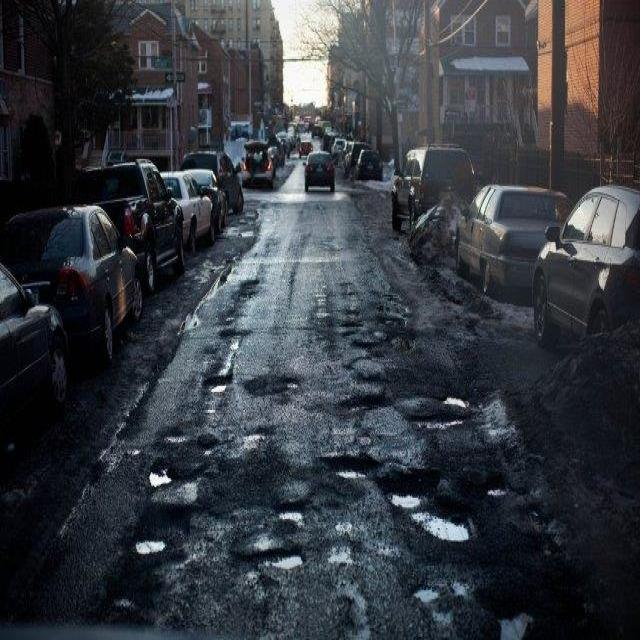jalan retak: (283, 264, 298, 323)
lubang: (199, 426, 375, 526), (139, 549, 248, 640), (240, 575, 316, 640), (176, 502, 240, 576), (470, 377, 525, 456), (502, 498, 578, 553), (325, 567, 376, 640), (134, 467, 211, 512), (504, 450, 549, 519), (411, 498, 470, 549), (358, 228, 412, 283), (412, 579, 470, 628), (355, 397, 415, 444), (377, 460, 431, 511), (373, 277, 414, 331), (242, 368, 304, 398), (247, 548, 310, 576), (488, 593, 526, 639), (324, 449, 377, 480), (105, 579, 142, 622), (358, 333, 421, 357), (331, 390, 388, 414), (146, 457, 186, 489), (332, 309, 369, 341), (214, 300, 252, 331), (410, 413, 463, 433), (390, 386, 425, 414), (333, 274, 361, 309), (327, 537, 358, 567), (123, 536, 171, 555), (200, 372, 233, 395), (481, 480, 507, 508), (234, 276, 258, 302), (319, 229, 343, 255), (198, 399, 228, 419), (275, 502, 308, 519), (219, 327, 247, 346), (163, 426, 196, 442), (437, 392, 470, 405), (310, 199, 328, 219), (238, 427, 271, 437), (196, 439, 216, 451)
